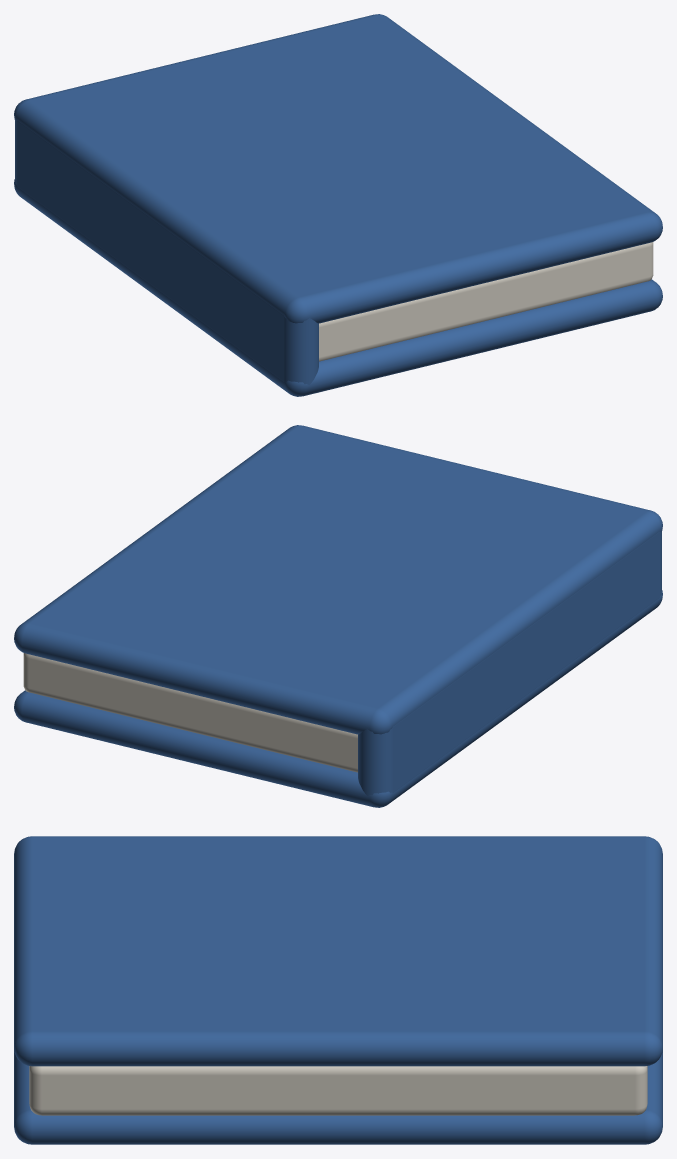
File: item_ic_lost_notebook.glb
3 views of the same model, one above another, from view 1: azimuth 30°, elevation 25°; view 2: azimuth 150°, elevation 25°; view 3: azimuth 270°, elevation 25° (orthographic). The views are drawn at different scales.
Visible parts, largest first — view 1: item_ic_lost_notebook_main; view 2: item_ic_lost_notebook_main; view 3: item_ic_lost_notebook_main.
Boxes of the visible parts, left/top/right/bottom form: item_ic_lost_notebook_main: left=14, top=14, right=662, bottom=396; item_ic_lost_notebook_main: left=14, top=425, right=662, bottom=807; item_ic_lost_notebook_main: left=14, top=836, right=662, bottom=1144.
Size of the model in its own units: 0.16 by 0.04 by 0.21.
